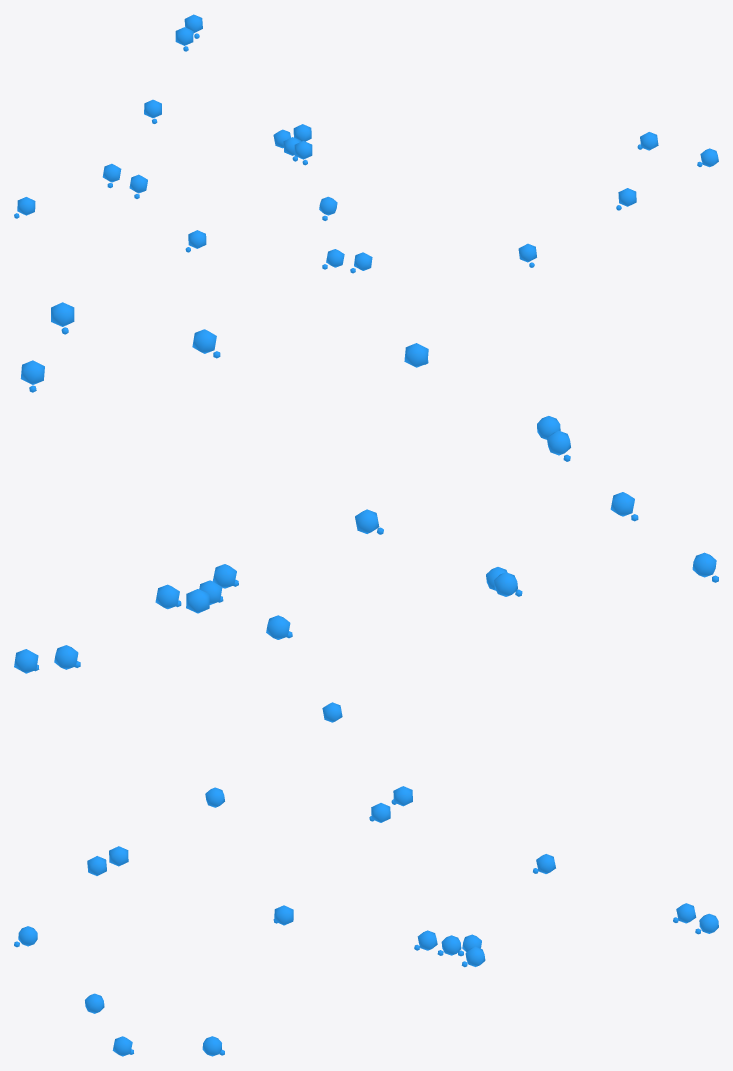
File: model_chunk_4.glb
3 renders of one model, top to bottom at view 1: azimuth 30°, elevation 25°; view 2: azimuth 150°, elevation 25°; view 3: azimuth 270°, elevation 25°, orthographic. The views are drawn at different scales.
Size of the model in its own units: 1 by 0.126 by 0.9357.
Materials: 1 (1 with a texture image).
